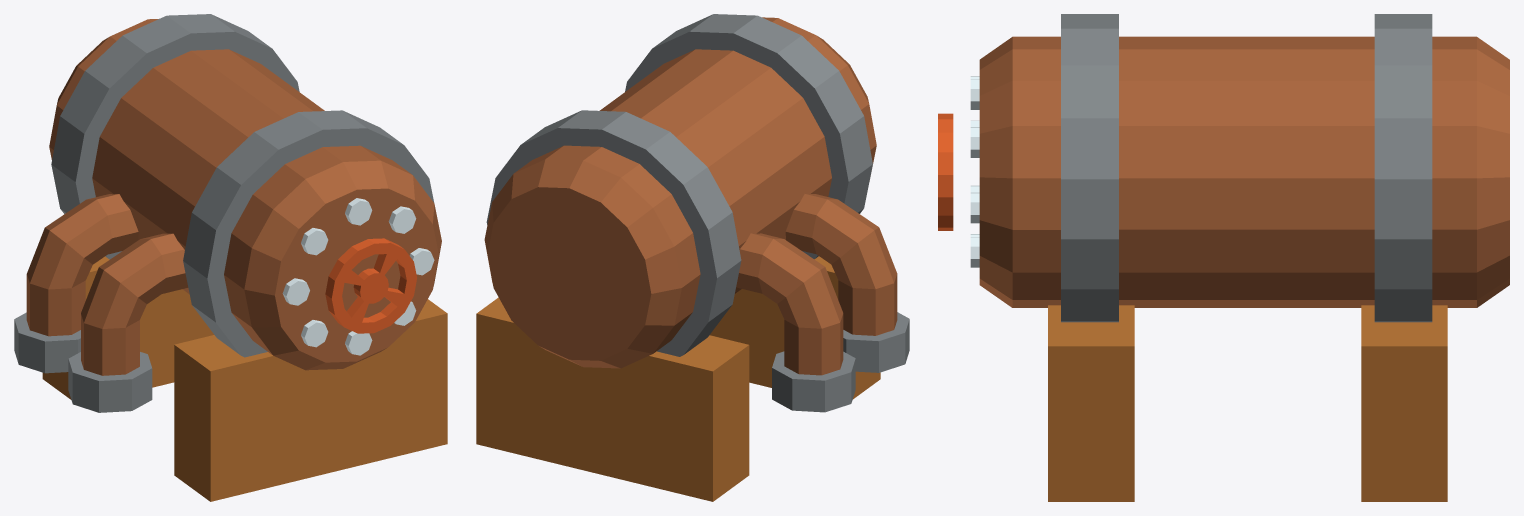
File: boiler.fbx
The picture shows the model from 3 angles, left to right: view 1: azimuth 30°, elevation 25°; view 2: azimuth 150°, elevation 25°; view 3: azimuth 270°, elevation 25°; orthographic projection. The views are drawn at different scales.
Visible parts, largest first — view 1: boiler; view 2: boiler; view 3: boiler.
Boxes of the visible parts, box(x1,y1,x2,y2) form: boiler: box(14, 14, 447, 501); boiler: box(476, 14, 909, 501); boiler: box(938, 14, 1509, 501).
Bounding box in the file's own units: 170 × 173 × 222.
